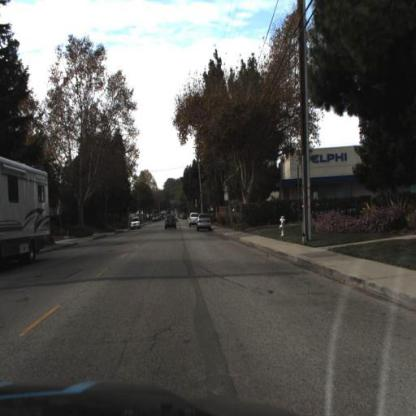car: (196, 212, 214, 235), (196, 212, 213, 234), (129, 214, 144, 232), (164, 215, 178, 234), (188, 210, 200, 229)
truck: (1, 152, 54, 268)
